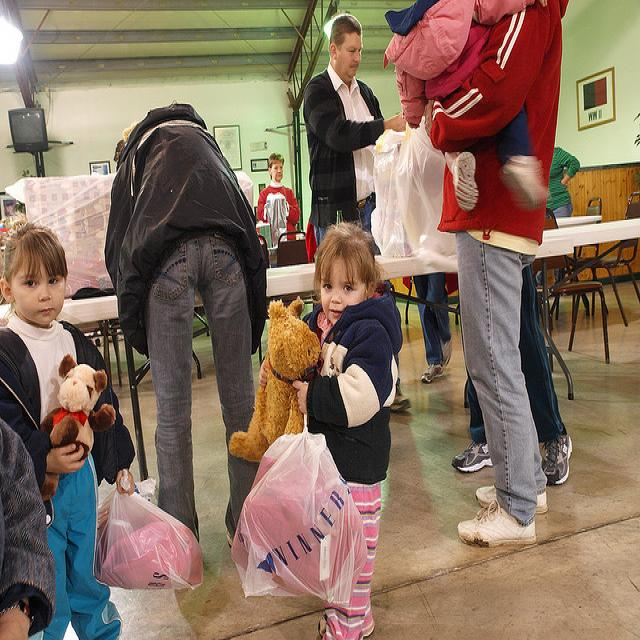chair: (546, 266, 611, 366), (597, 192, 640, 329), (576, 197, 602, 267), (278, 230, 310, 268), (71, 285, 108, 300)
dining table: (2, 298, 151, 481), (542, 219, 640, 249), (482, 236, 576, 267), (267, 257, 317, 305), (374, 253, 461, 280), (557, 216, 604, 228)
